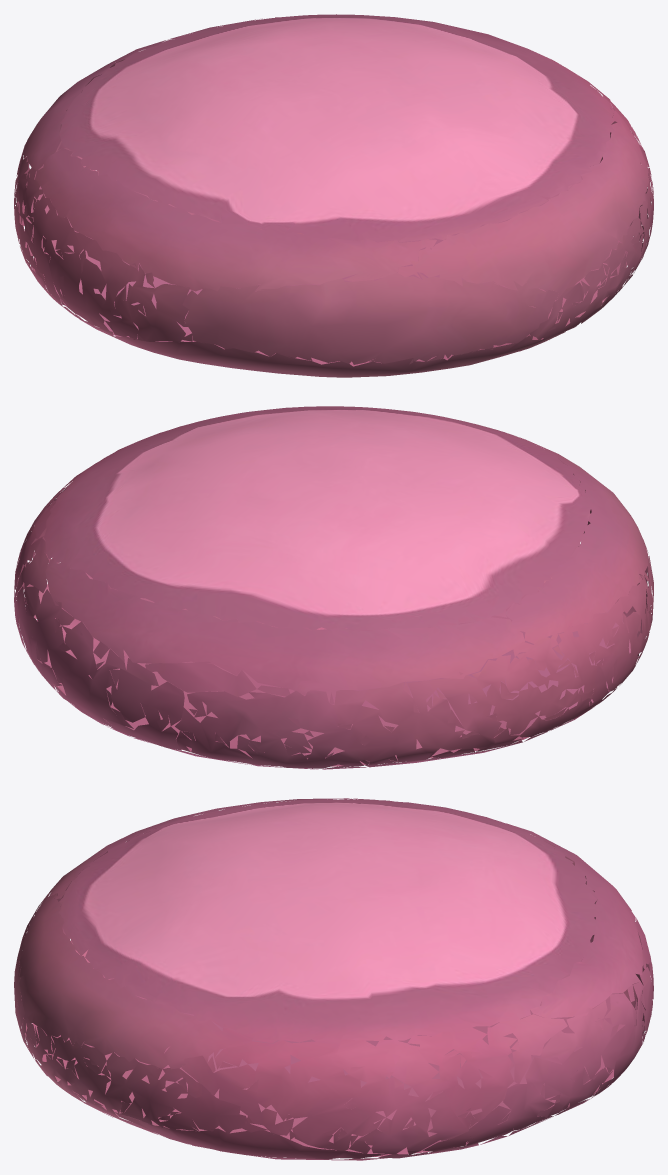
File: rose.glb
The picture shows the model from 3 angles, top to bottom: view 1: azimuth 30°, elevation 25°; view 2: azimuth 150°, elevation 25°; view 3: azimuth 270°, elevation 25°; orthographic projection.
Bounding box in the file's own units: 0.27 × 0.0828 × 0.2702.
1 material, 1 textured.
